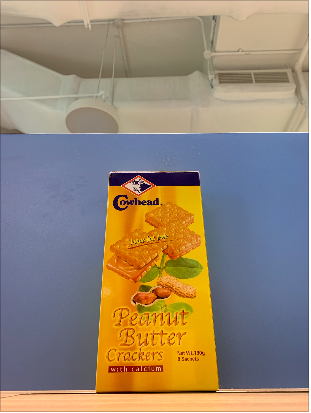Crackers_100-199g: (109, 173, 208, 378)
